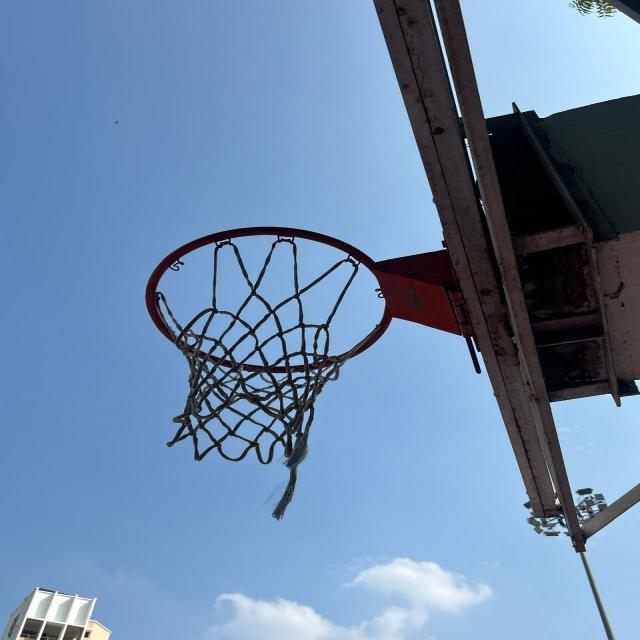hoop: (117, 216, 477, 491)
